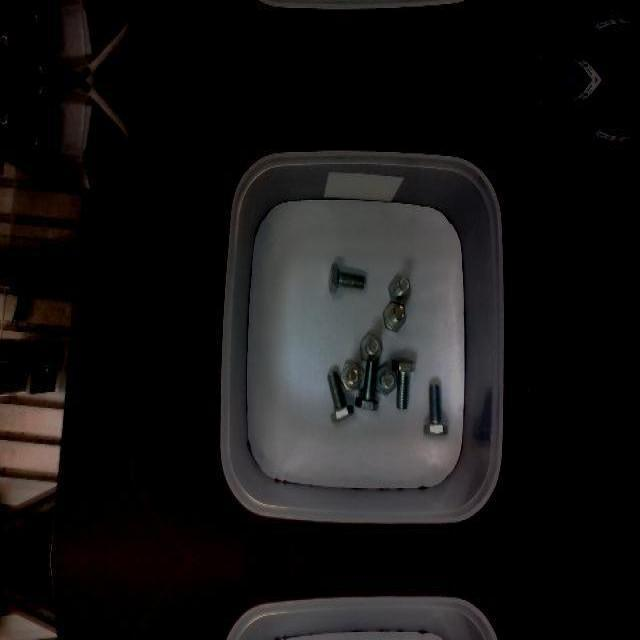screw: (327, 369, 354, 423), (423, 383, 448, 437), (392, 358, 417, 410), (355, 358, 379, 410), (328, 262, 364, 294), (340, 359, 363, 391), (388, 275, 411, 305), (383, 301, 406, 331), (360, 331, 383, 361), (376, 364, 397, 396)
